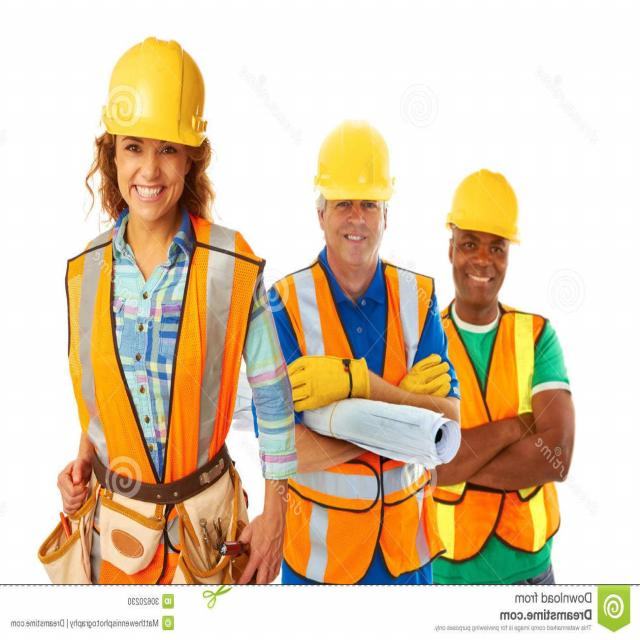Reflective-Jacket: (64, 216, 260, 537), (274, 259, 434, 517), (429, 304, 560, 558)
Safety-Helmet: (97, 33, 212, 149), (313, 111, 398, 205), (444, 164, 524, 245)
